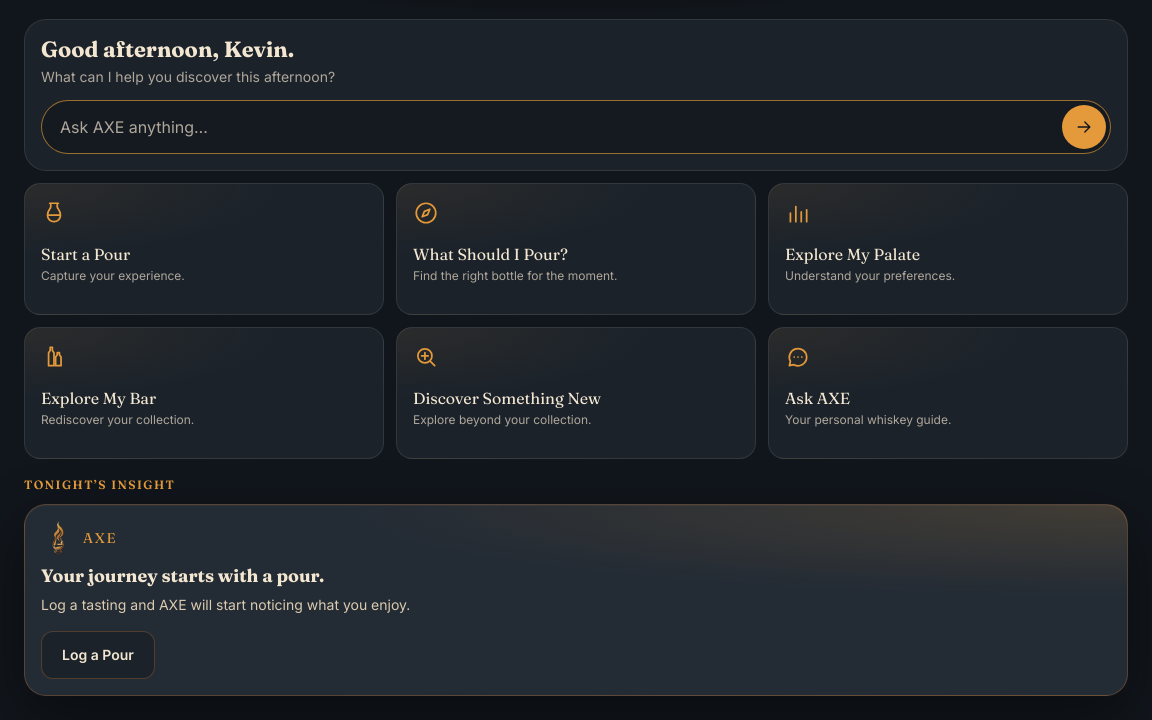
Test: AxeHubPage › Start a Pour opens the existing Pour menu with all five workflows
(page scrolled)
Click the button "Start a Pour Capture your experience." at (86, 254), box [24,183,384,315]
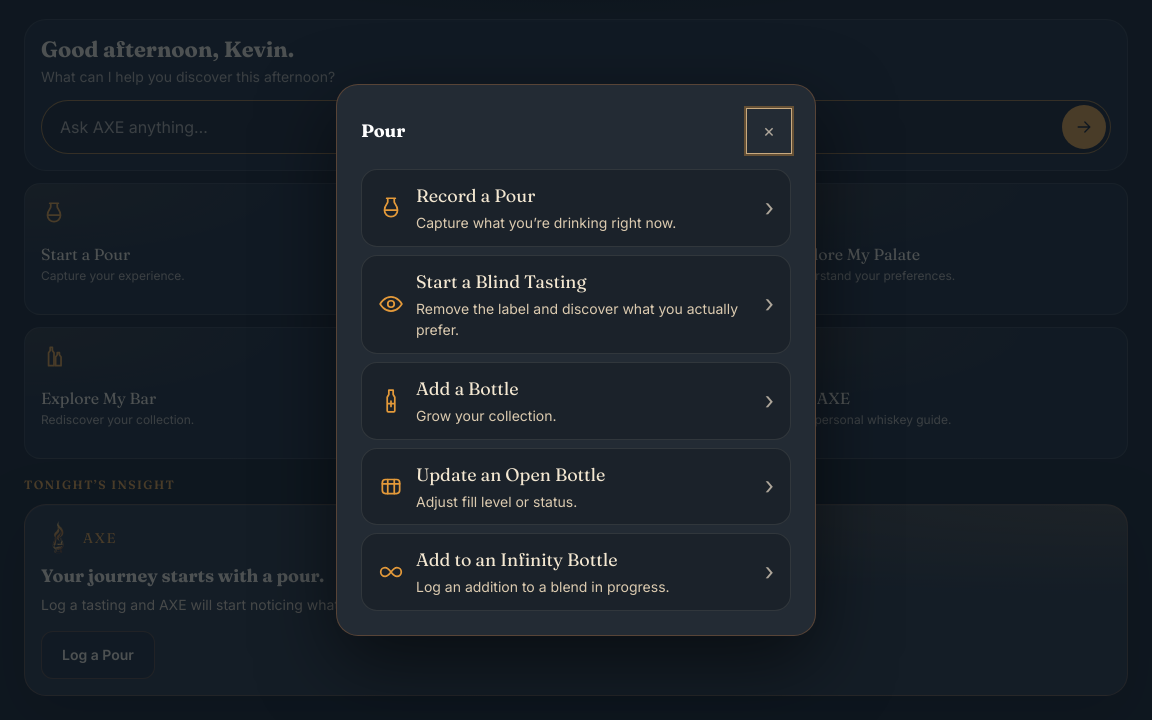
expect the button "Record a Pour Capture what you’re drinking right now. ›" is shown: met, box [361,169,791,247]
expect the button "Start a Blind Tasting" is shown: met, box [361,255,791,354]
expect the button "Add a Bottle Grow your collection. ›" is shown: met, box [361,362,791,440]
